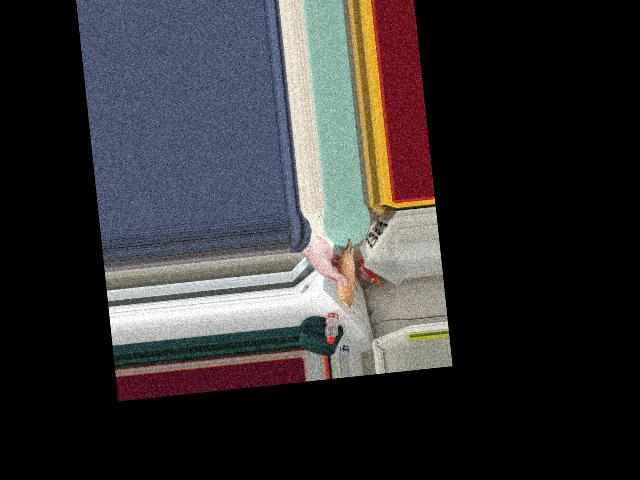sweet_potato: (335, 233, 361, 310)
